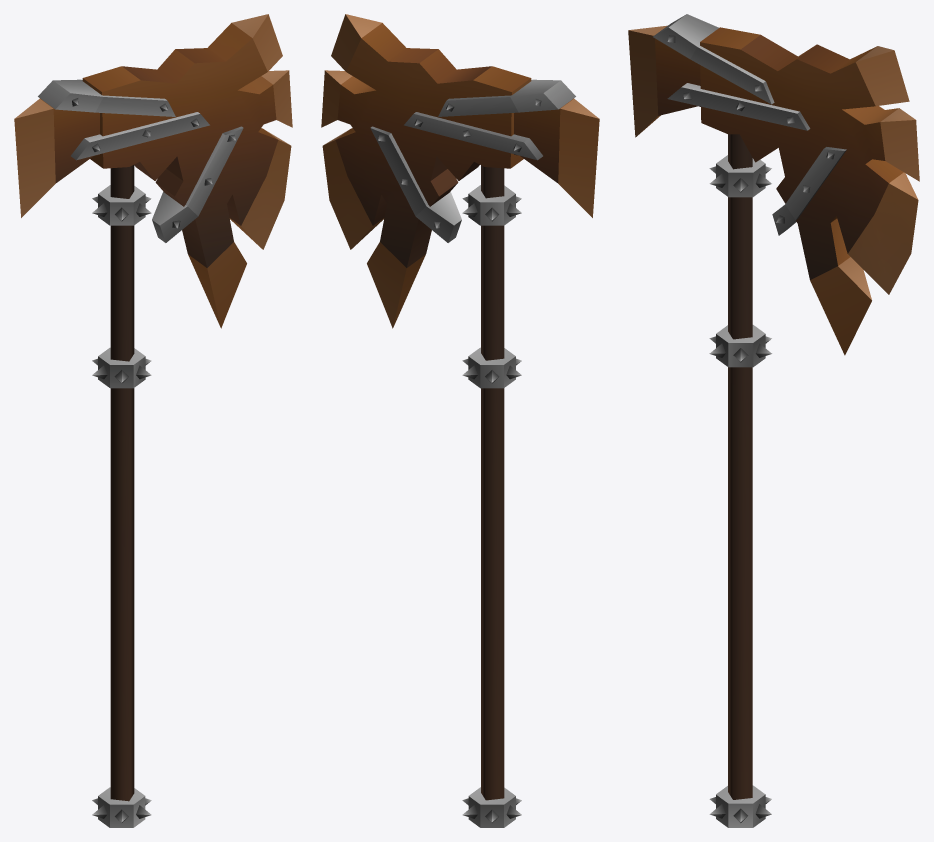
File: Axe2h_21.fbx
3 views of the same model, side by side, from view 1: azimuth 30°, elevation 25°; view 2: azimuth 150°, elevation 25°; view 3: azimuth 330°, elevation 25° (orthographic). The views are drawn at different scales.
Visible parts, largest first — view 1: Axe2h_21; view 2: Axe2h_21; view 3: Axe2h_21.
Part boxes in pixels (x1=…): Axe2h_21: x1=14, y1=14, x2=292, y2=827; Axe2h_21: x1=321, y1=14, x2=599, y2=827; Axe2h_21: x1=628, y1=14, x2=919, y2=827.
Size of the model in its own units: 56.63 by 150 by 11.41.
